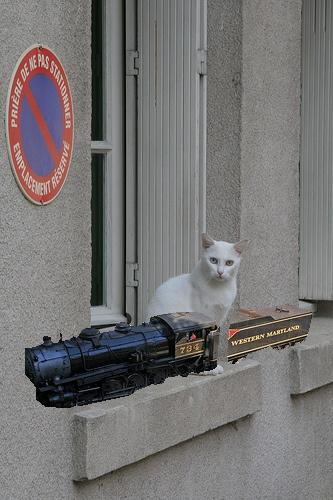tampered: (26, 305, 312, 408)
